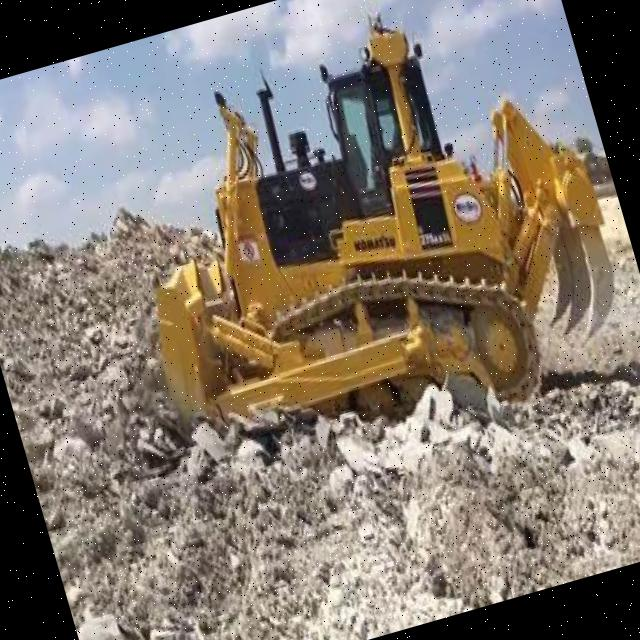Bulldozer: (65, 0, 640, 581)
